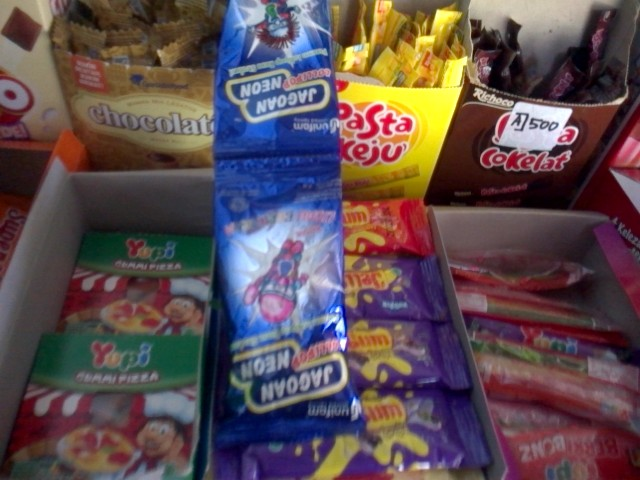jagoan neon: (214, 161, 358, 451), (214, 1, 339, 167)
